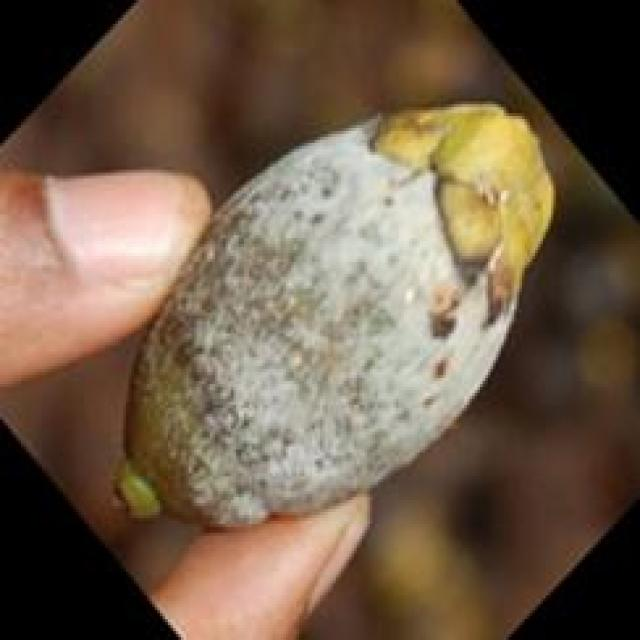damaged: (129, 104, 551, 521)
